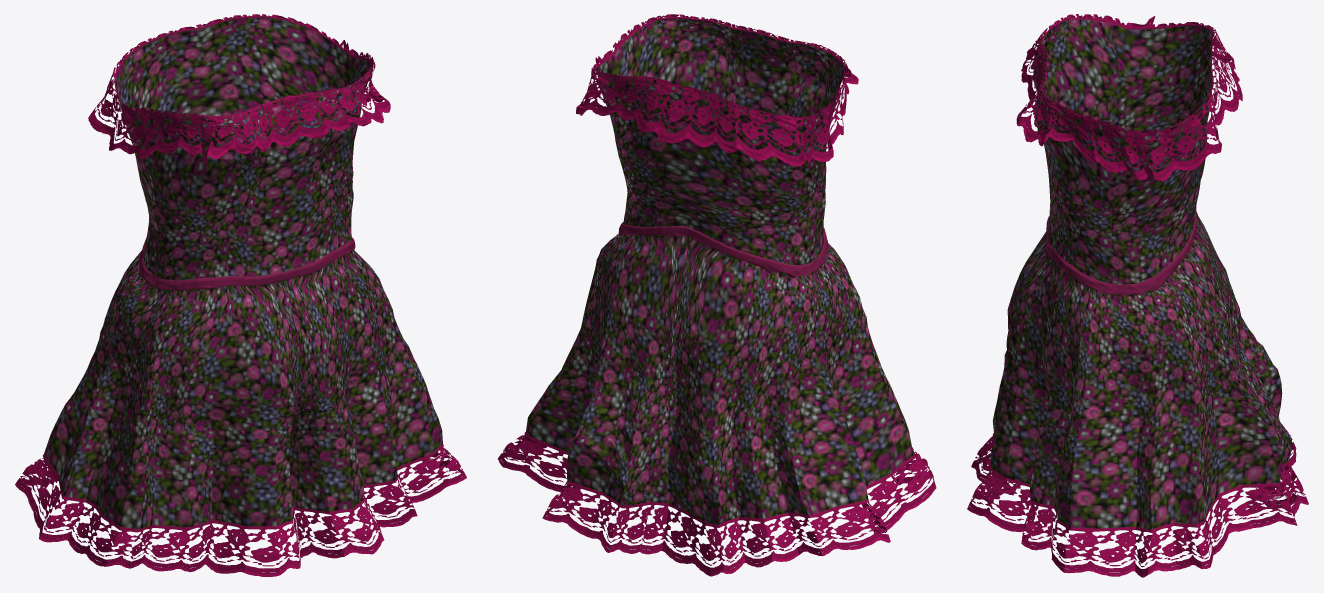
File: mhw_toigo_strapless_ruffle_top_dress.glb
The picture shows the model from 3 angles, left to right: view 1: azimuth 30°, elevation 25°; view 2: azimuth 150°, elevation 25°; view 3: azimuth 270°, elevation 25°; orthographic projection. The views are drawn at different scales.
Parts seen in each view (by area): view 1: mhw_toigo_strapless_ruffle_top_dress; view 2: mhw_toigo_strapless_ruffle_top_dress; view 3: mhw_toigo_strapless_ruffle_top_dress.
Boxes of the visible parts, box(x1,y1,x2,y2) form: mhw_toigo_strapless_ruffle_top_dress: box(15, 14, 466, 576); mhw_toigo_strapless_ruffle_top_dress: box(498, 14, 936, 576); mhw_toigo_strapless_ruffle_top_dress: box(967, 14, 1308, 577).
Bounding box in the file's own units: 0.6126 × 0.7123 × 0.4861.
Materials: 1 (1 with a texture image).
